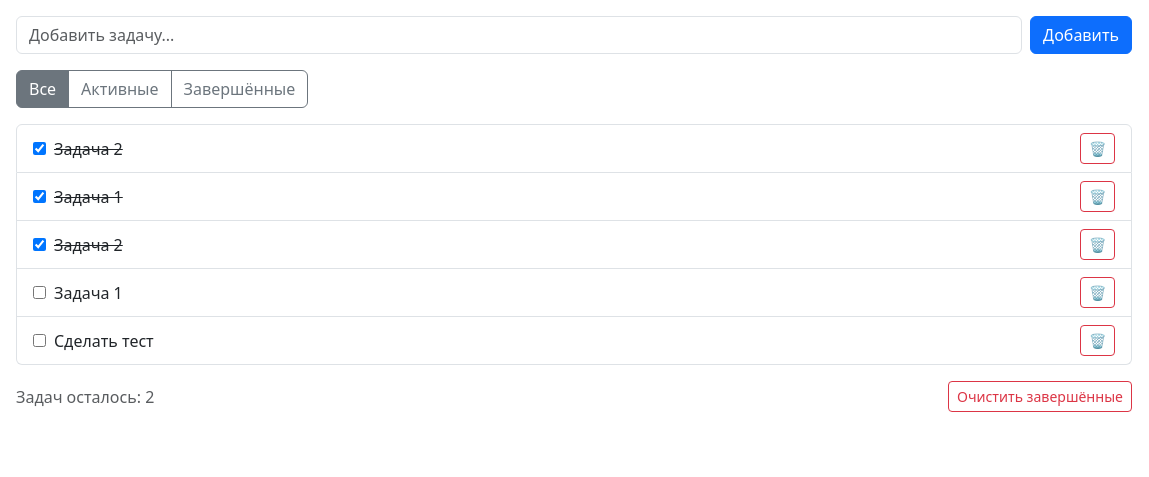
Test: Удаление задачи
The image size is (1149, 477).
Type "Удаляемая задача" into the field with placeholder "Добавить задачу..." at (519,35), box [16,16,1022,54]
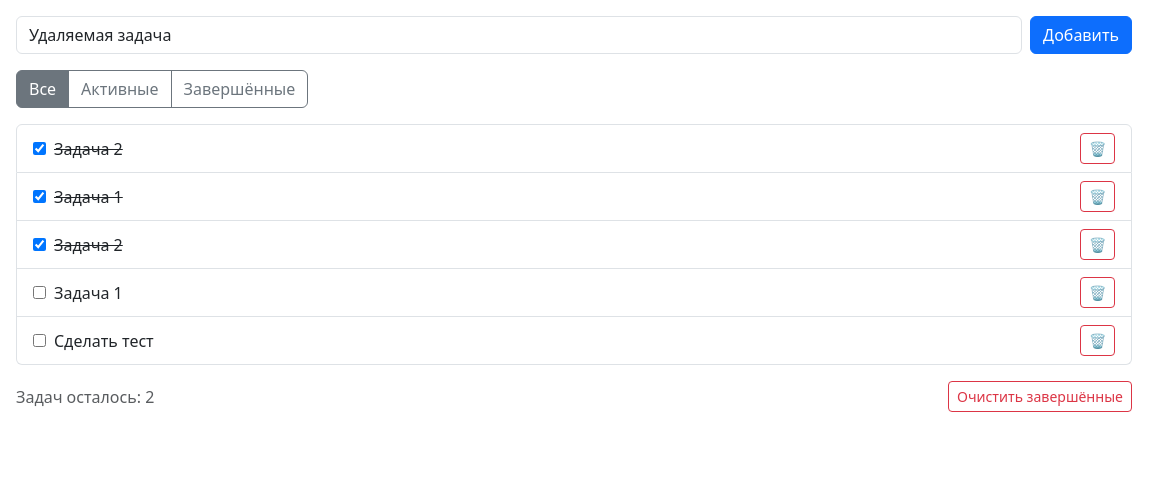
Click the button "Добавить" at (1081,35), box [1030,16,1132,54]
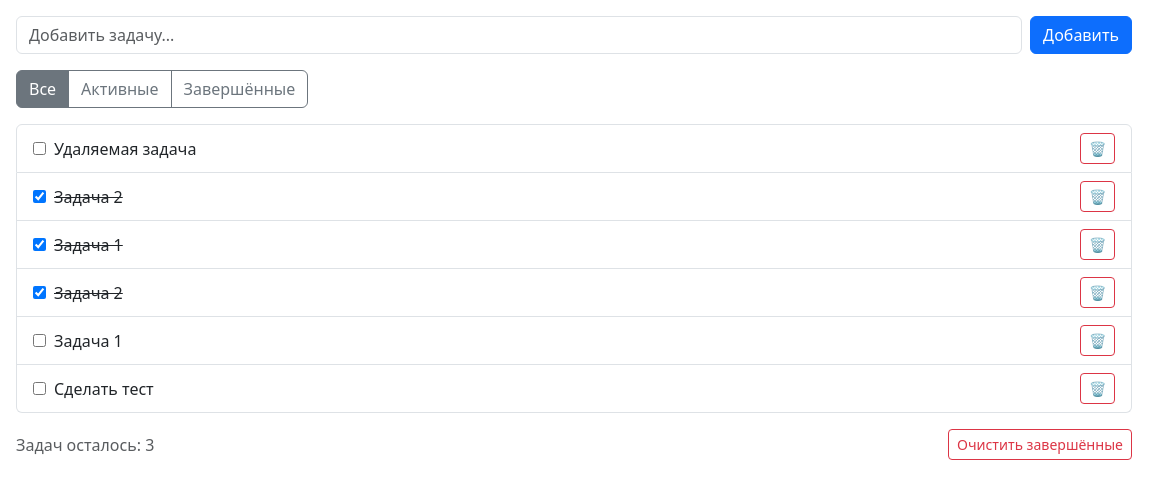
Click the button named "удалить удаляемая задача" at (1098,148), box [1080,133,1115,164]
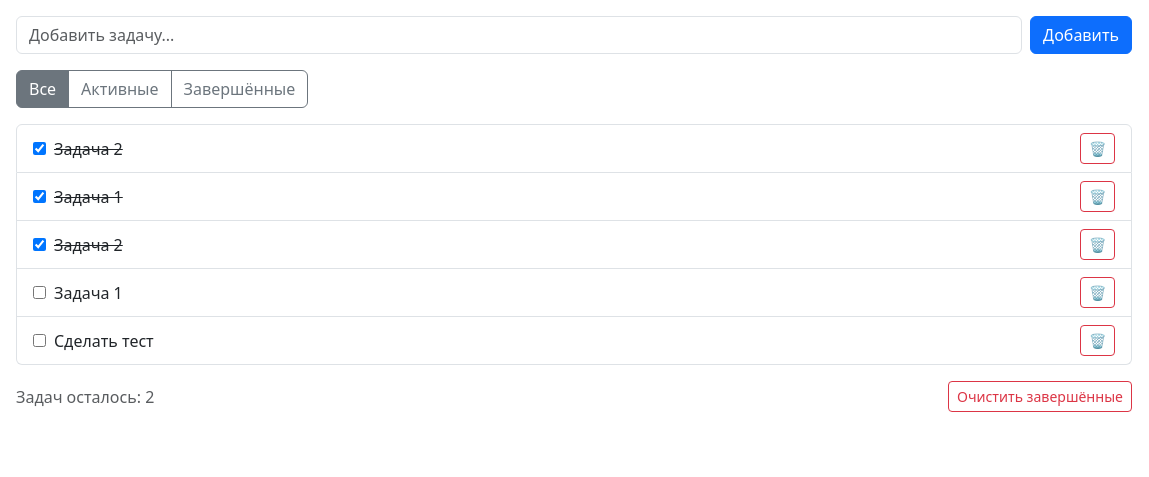
Now the text "Удаляемая задача" is gone
